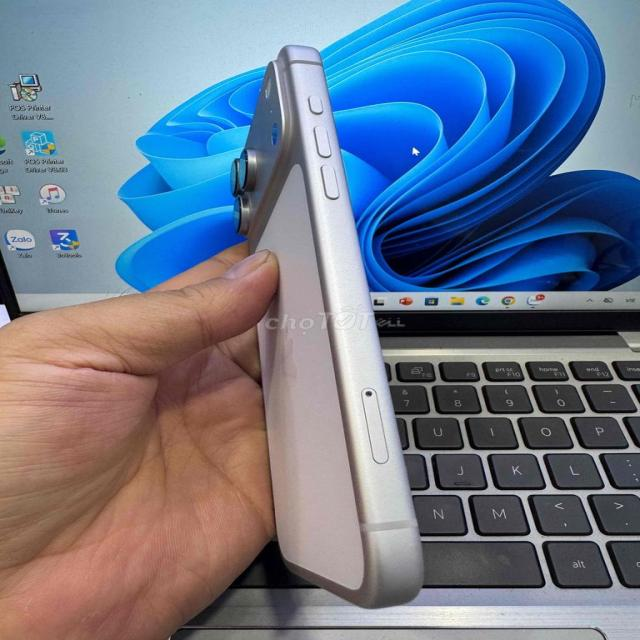gen_17: (231, 47, 420, 608)
